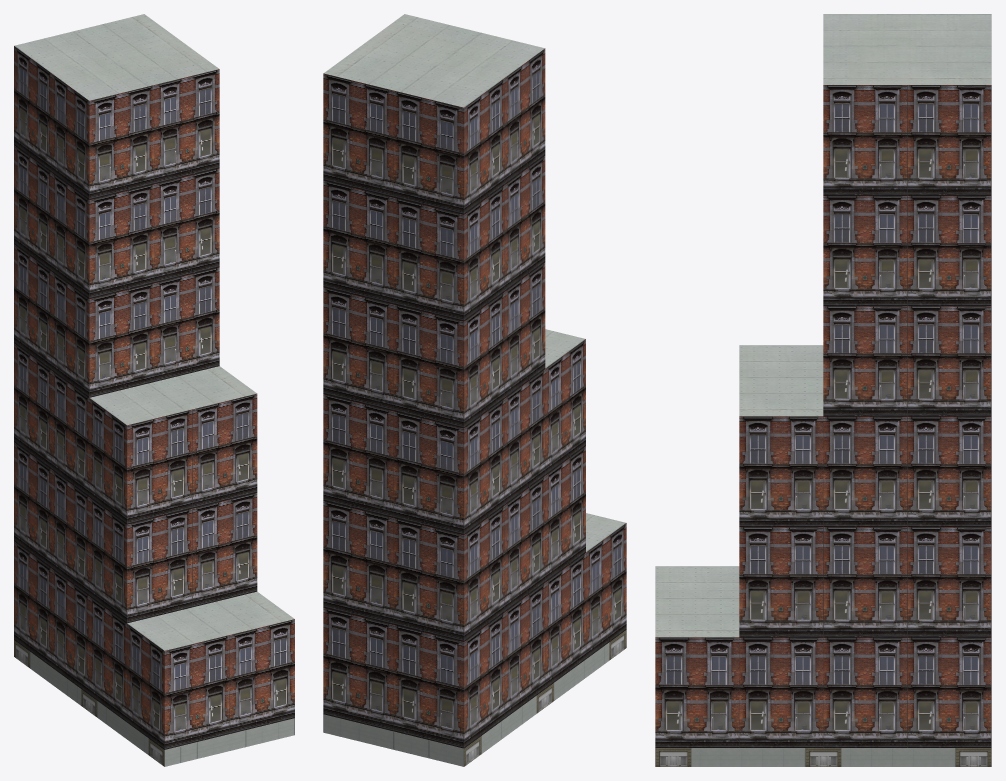
Rendered from Building049.fbx.
3 views of the same model, side by side, from view 1: azimuth 30°, elevation 25°; view 2: azimuth 150°, elevation 25°; view 3: azimuth 270°, elevation 25° (orthographic). The views are drawn at different scales.
Visible parts, largest first — view 1: Building049; view 2: Building049; view 3: Building049.
Part boxes in pixels (box(x1,y1,x2,y2)): Building049: box(14, 14, 294, 766); Building049: box(323, 14, 626, 766); Building049: box(655, 14, 991, 766).
Bounding box in the file's own units: 20.71 × 92.76 × 41.43.
